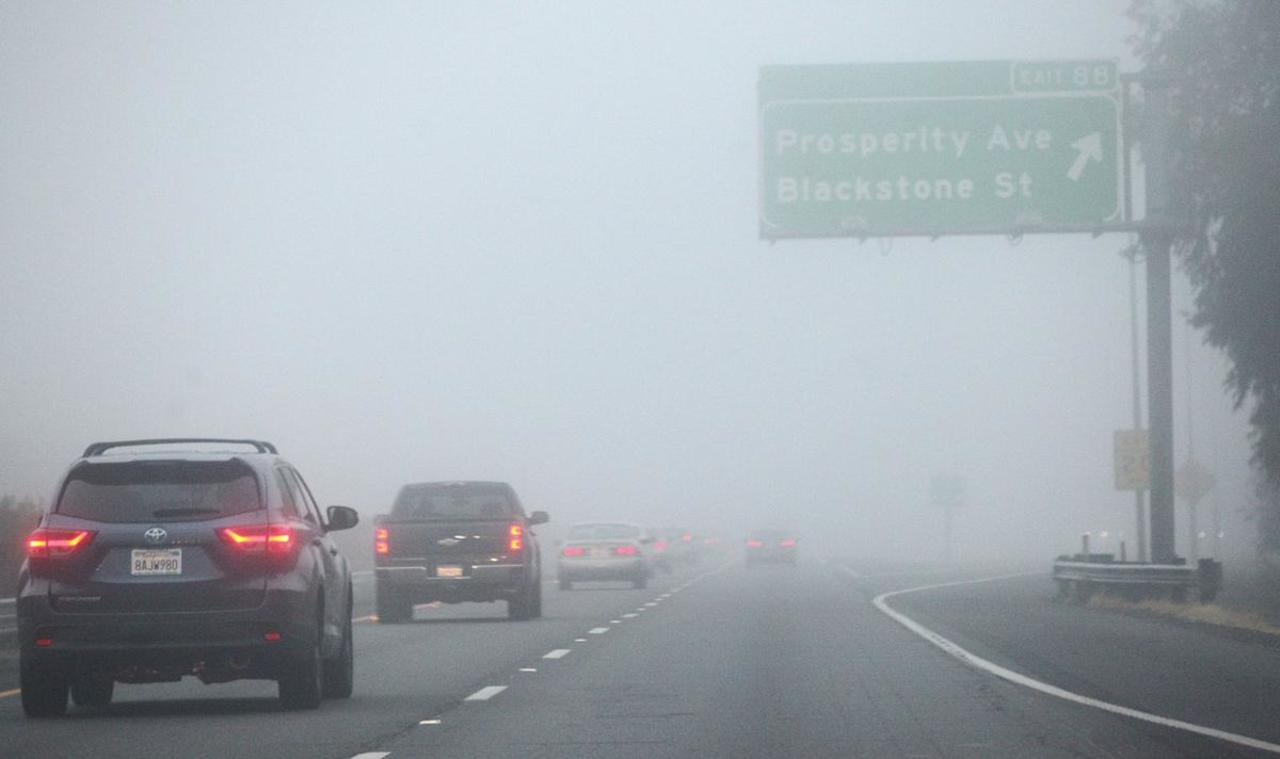car: (11, 442, 358, 718), (365, 484, 548, 622), (556, 522, 651, 588), (741, 528, 800, 571), (643, 524, 668, 577), (665, 528, 694, 564)
